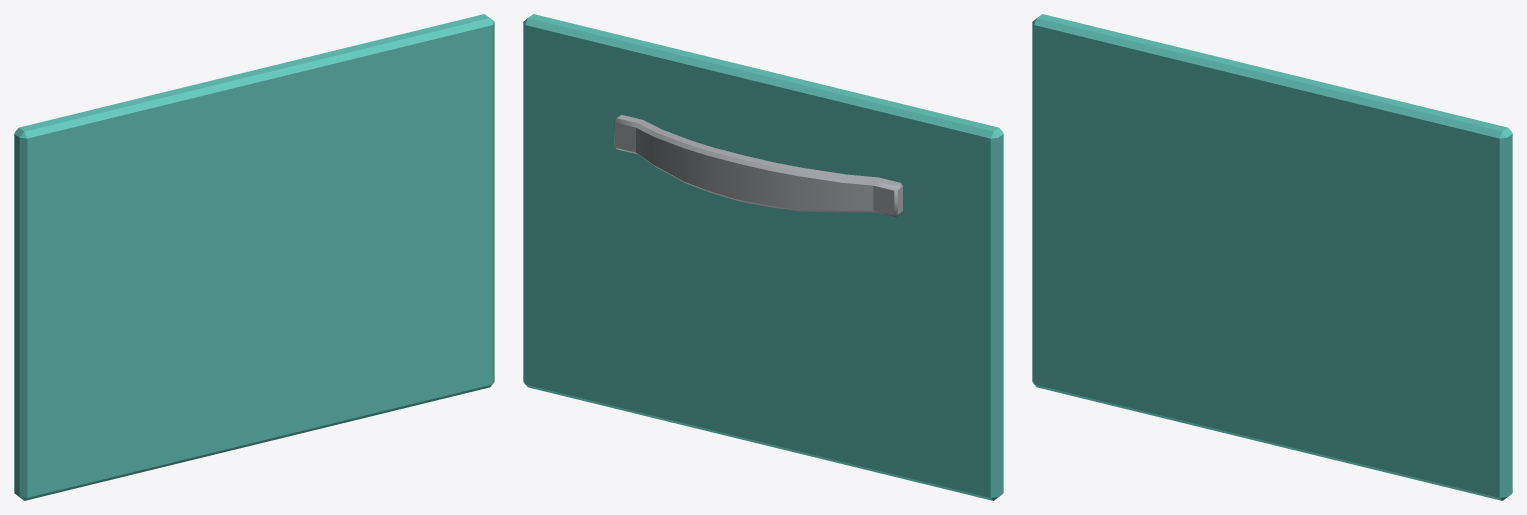
File: Bookcase_door_3.fbx
3 renders of one model, left to right at view 1: azimuth 30°, elevation 25°; view 2: azimuth 150°, elevation 25°; view 3: azimuth 330°, elevation 25°, orthographic.
Parts seen in each view (by area): view 1: Bookcase_door_3; view 2: Bookcase_door_3; view 3: Bookcase_door_3.
Boxes of the visible parts, bbox=[...] form: Bookcase_door_3: bbox=[14, 14, 494, 500]; Bookcase_door_3: bbox=[523, 14, 1003, 500]; Bookcase_door_3: bbox=[1032, 14, 1512, 500].
Size of the model in its own units: 0.4975 by 0.3696 by 0.0655.
